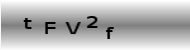2: (84, 15, 99, 30)
F: (43, 20, 56, 36)
V: (64, 20, 82, 35)
f: (105, 25, 115, 40)
t: (21, 17, 34, 30)
